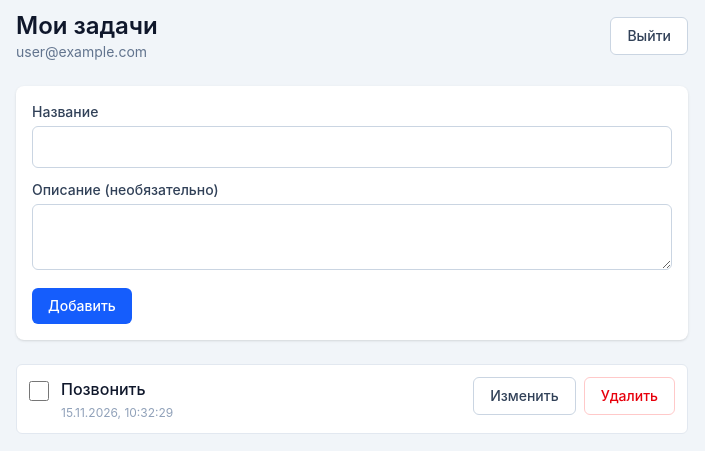
Scenario: Frontend › 40. Frontend checkbox меняет состояние задачи
The image size is (705, 451).
Click the checkbox named "Выполнено: Позвонить" at x=39, y=391, box [29,381,49,401]
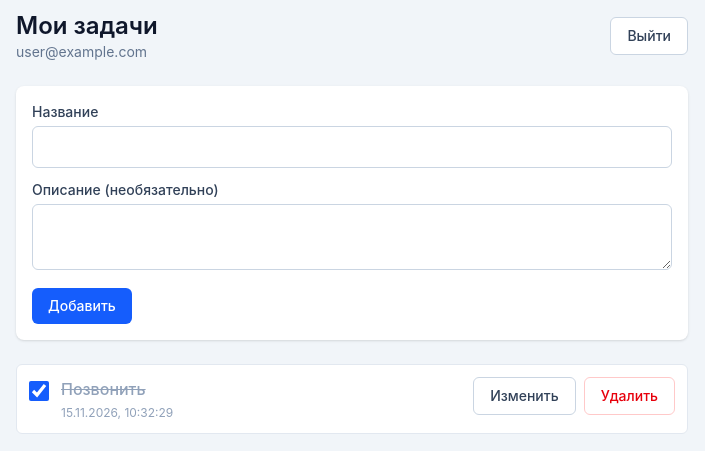
Check: the checkbox named "Выполнено: Позвонить" is checked
Click the checkbox named "Выполнено: Позвонить" at x=39, y=391, box [29,381,49,401]
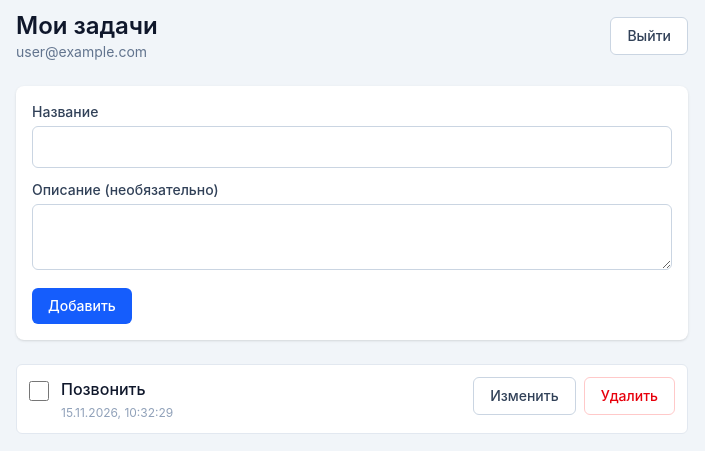
Check: the checkbox named "Выполнено: Позвонить" is not checked, box [29,381,49,401]
